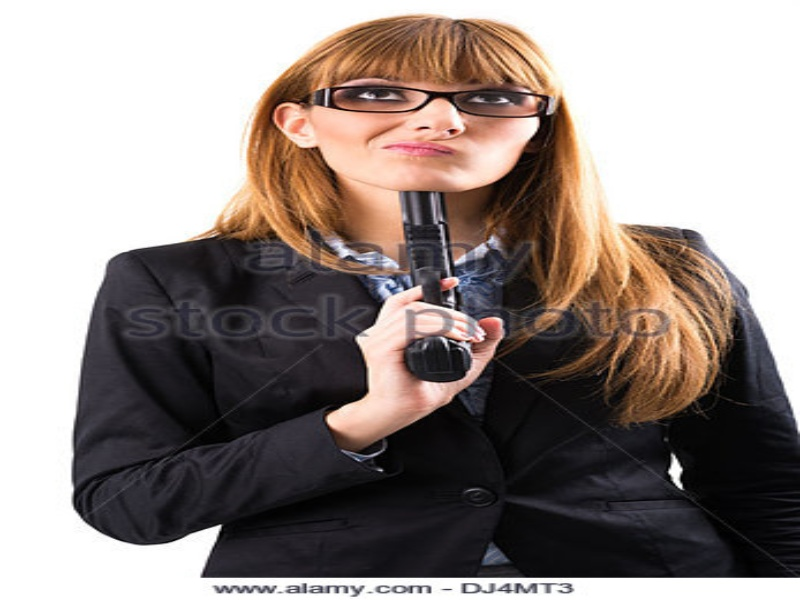gun: (365, 191, 497, 400)
